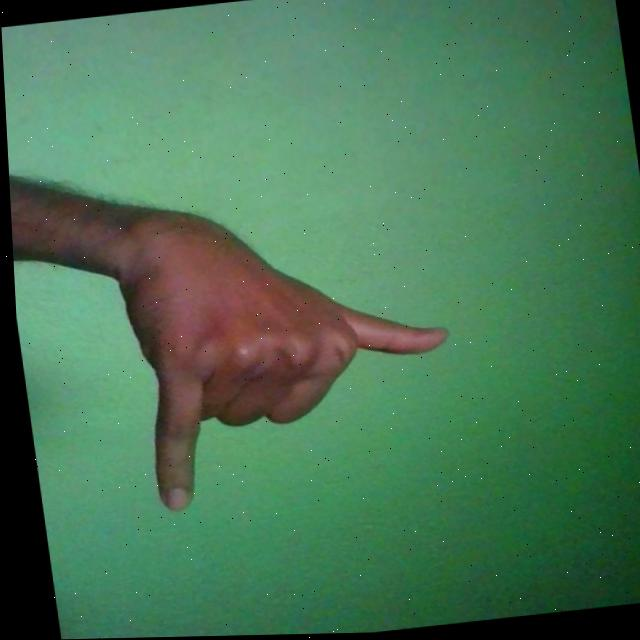Call Me: (102, 180, 465, 516)
